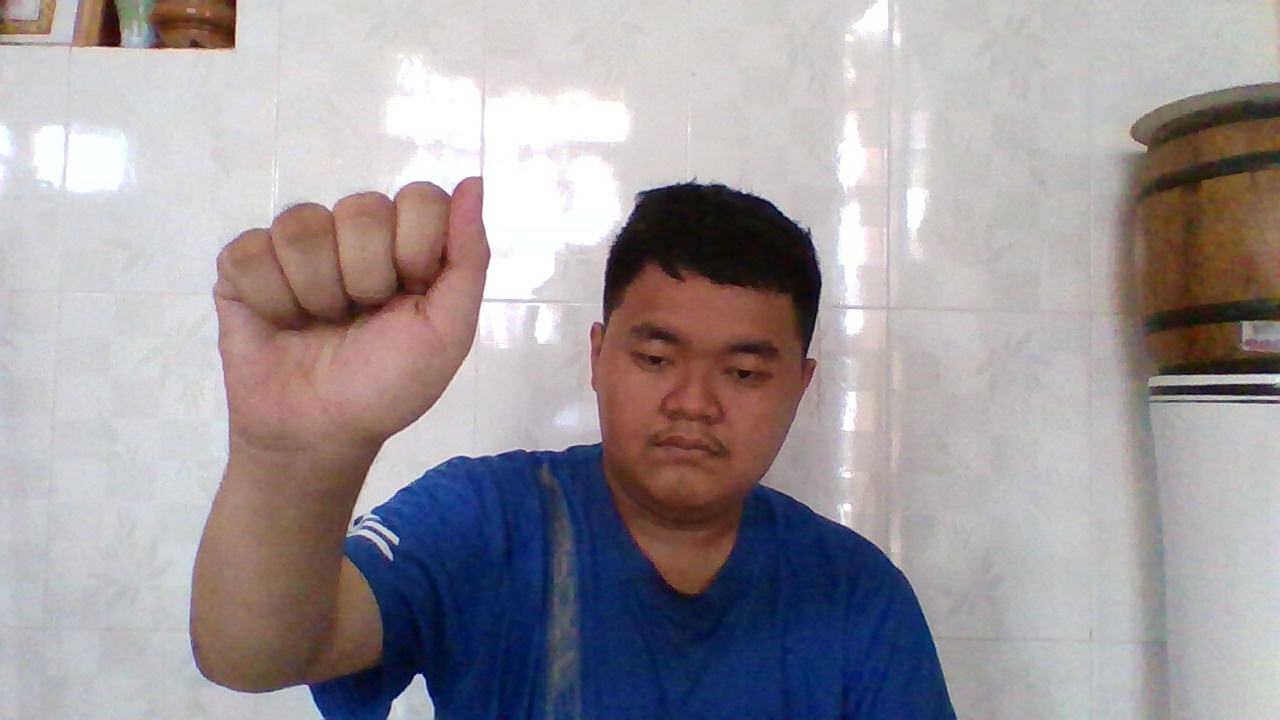A: (234, 179, 491, 460)
